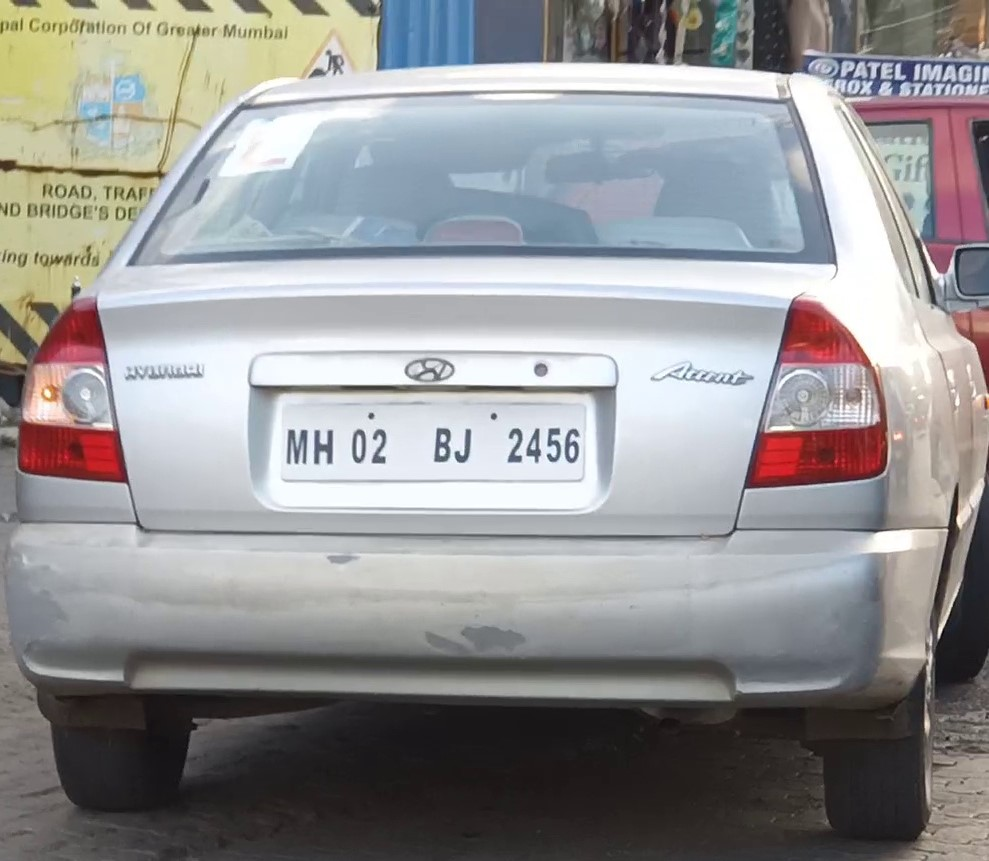MH02BJ2456: (281, 401, 585, 480)
